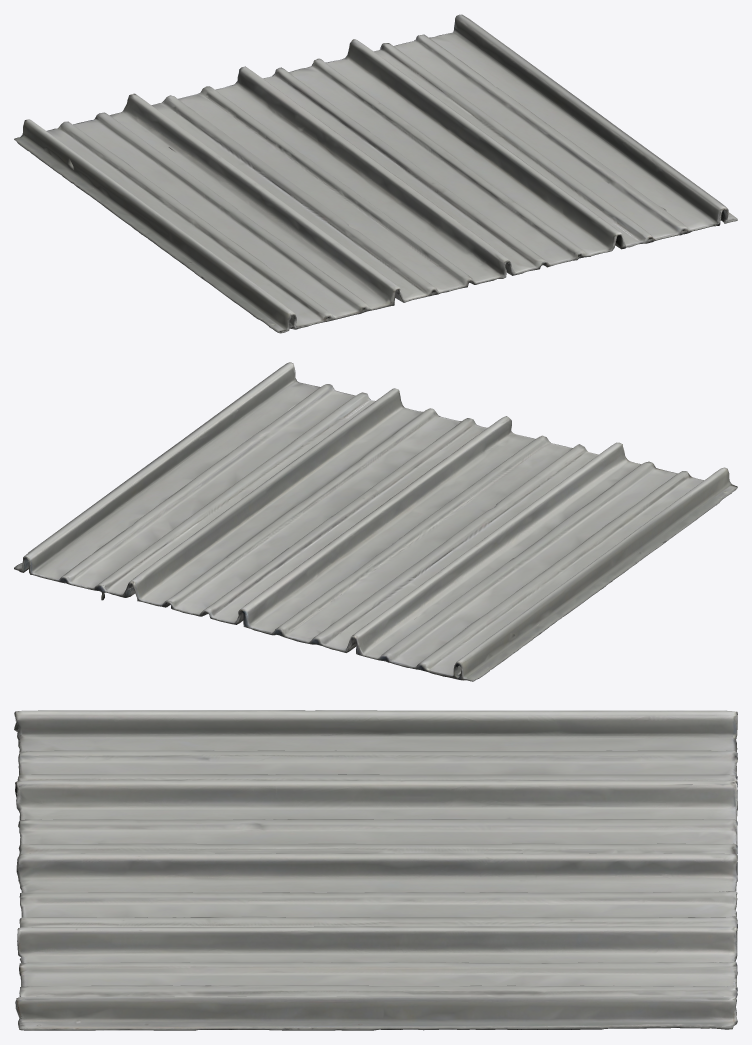
3 renders of one model, top to bottom at view 1: azimuth 30°, elevation 25°; view 2: azimuth 150°, elevation 25°; view 3: azimuth 270°, elevation 25°, orthographic. The views are drawn at different scales.
Size of the model in its own units: 2 by 0.1114 by 2.
Materials: 1 (1 with a texture image).
